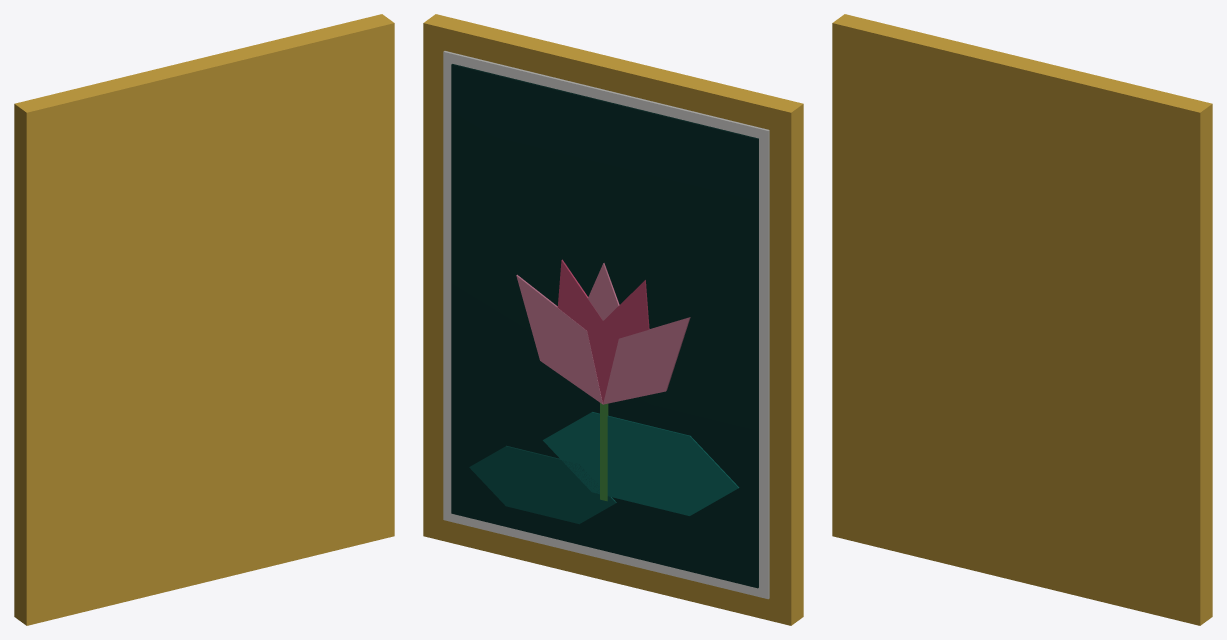
Rendered from painting_02.glb.
3 renders of one model, left to right at view 1: azimuth 30°, elevation 25°; view 2: azimuth 150°, elevation 25°; view 3: azimuth 330°, elevation 25°, orthographic.
Parts seen in each view (by area): view 1: painting_02_mesh; view 2: painting_02_mesh; view 3: painting_02_mesh.
Part boxes in pixels (bbox=[...]): painting_02_mesh: bbox=[14, 14, 394, 625]; painting_02_mesh: bbox=[423, 14, 803, 625]; painting_02_mesh: bbox=[832, 14, 1212, 625].
Bounding box in the file's own units: 0.6 × 0.8 × 0.0473.
Materials: 1 (1 with a texture image).
